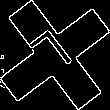L_SE: (28, 26, 82, 84)
